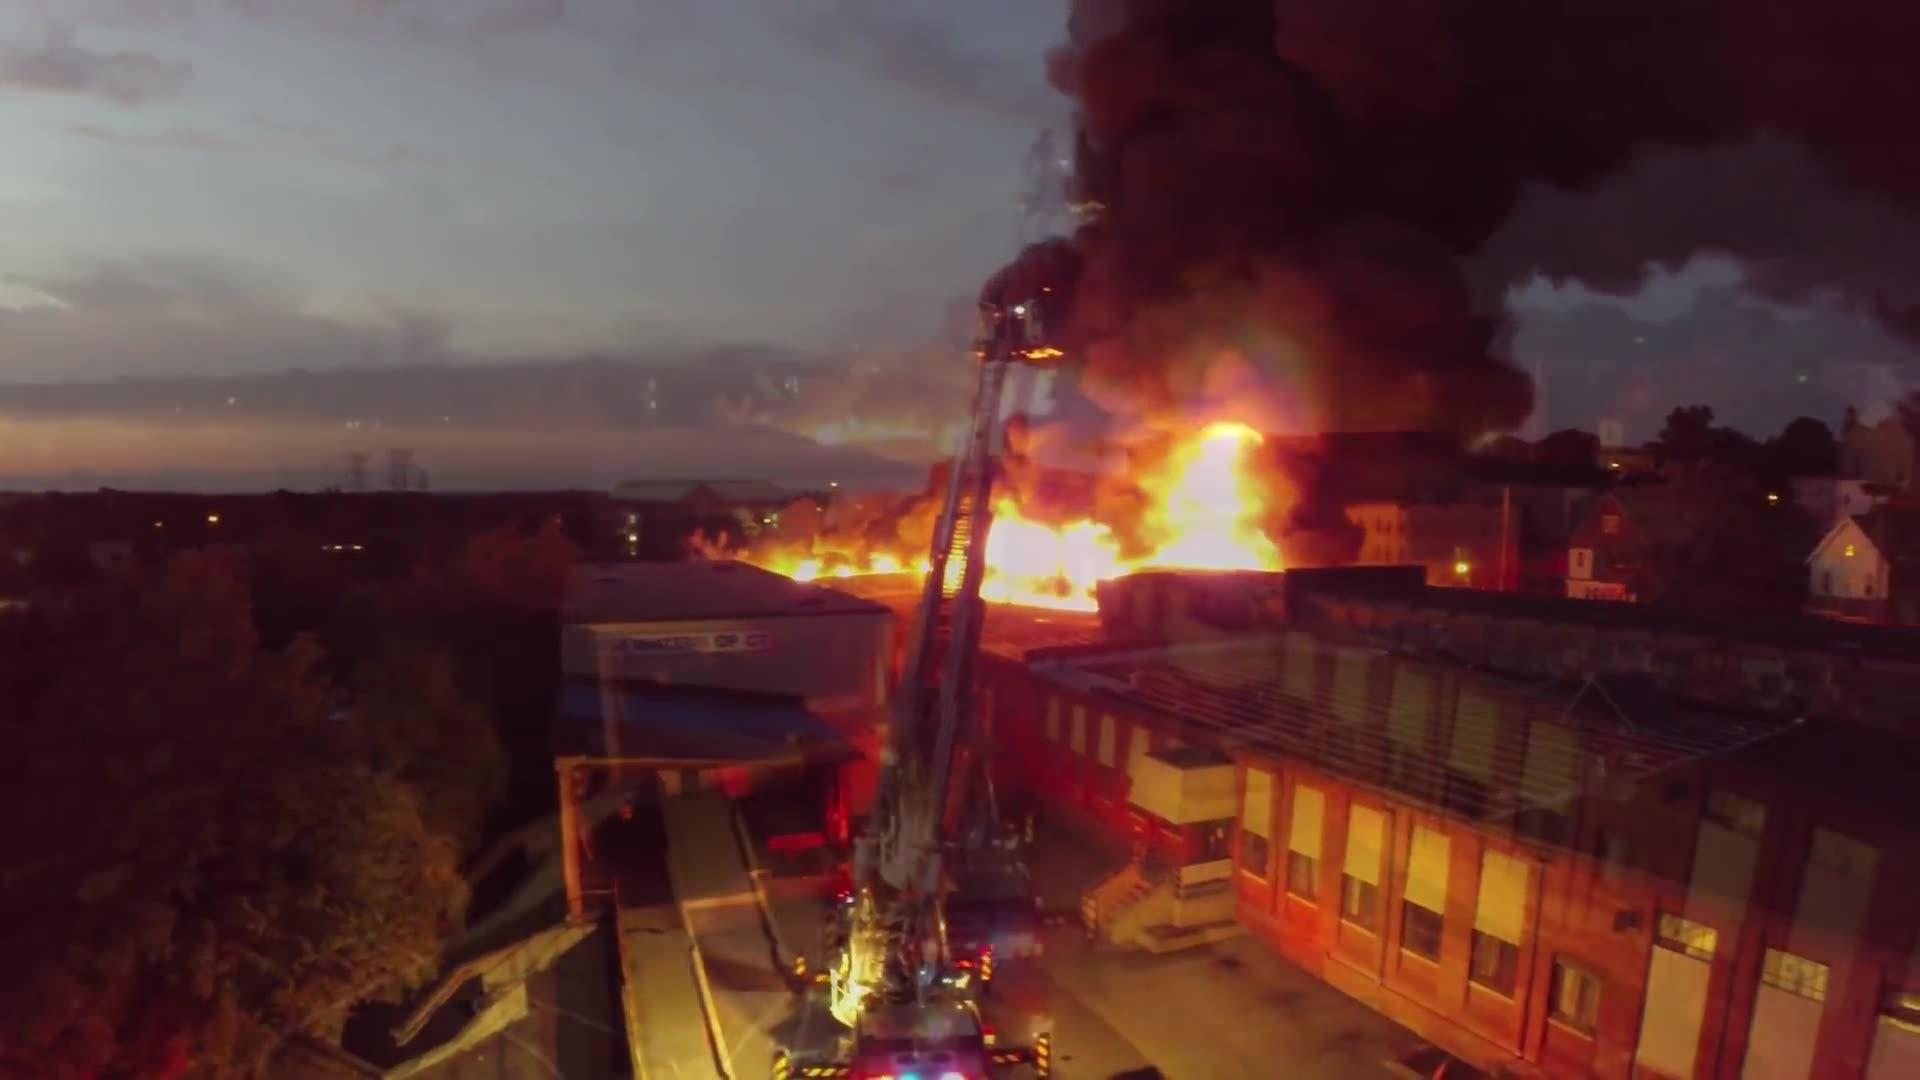fire: (824, 507, 1306, 586)
smoke: (1103, 7, 1473, 410), (1513, 21, 1920, 251)
